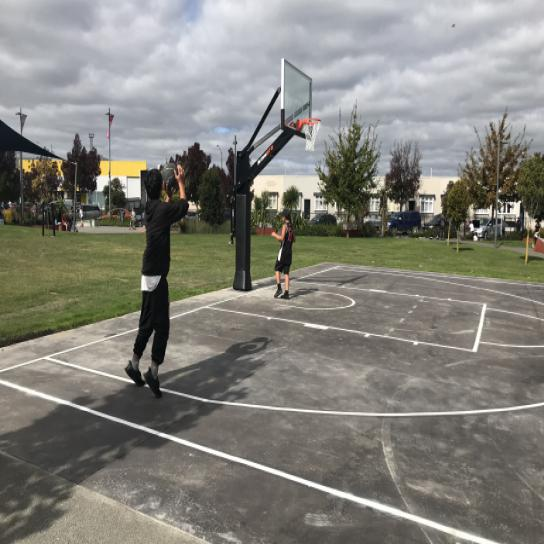basketball-hoop: (301, 118, 321, 152)
